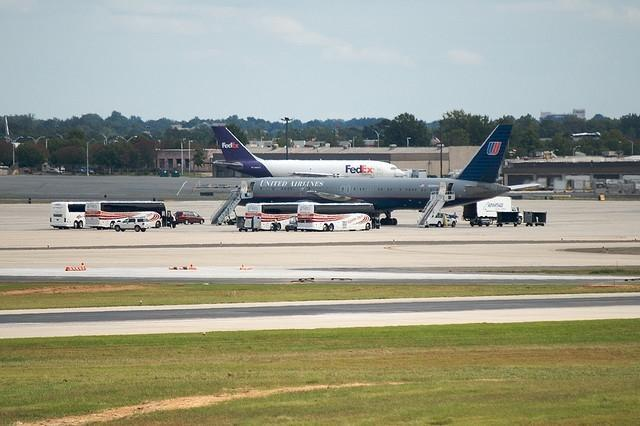bus: (85, 200, 167, 229), (297, 204, 376, 230), (244, 203, 299, 230), (50, 202, 86, 230)
car: (114, 219, 150, 232), (425, 213, 456, 228), (468, 217, 491, 228)
truck: (462, 197, 523, 224), (114, 217, 151, 232), (176, 210, 204, 225)
